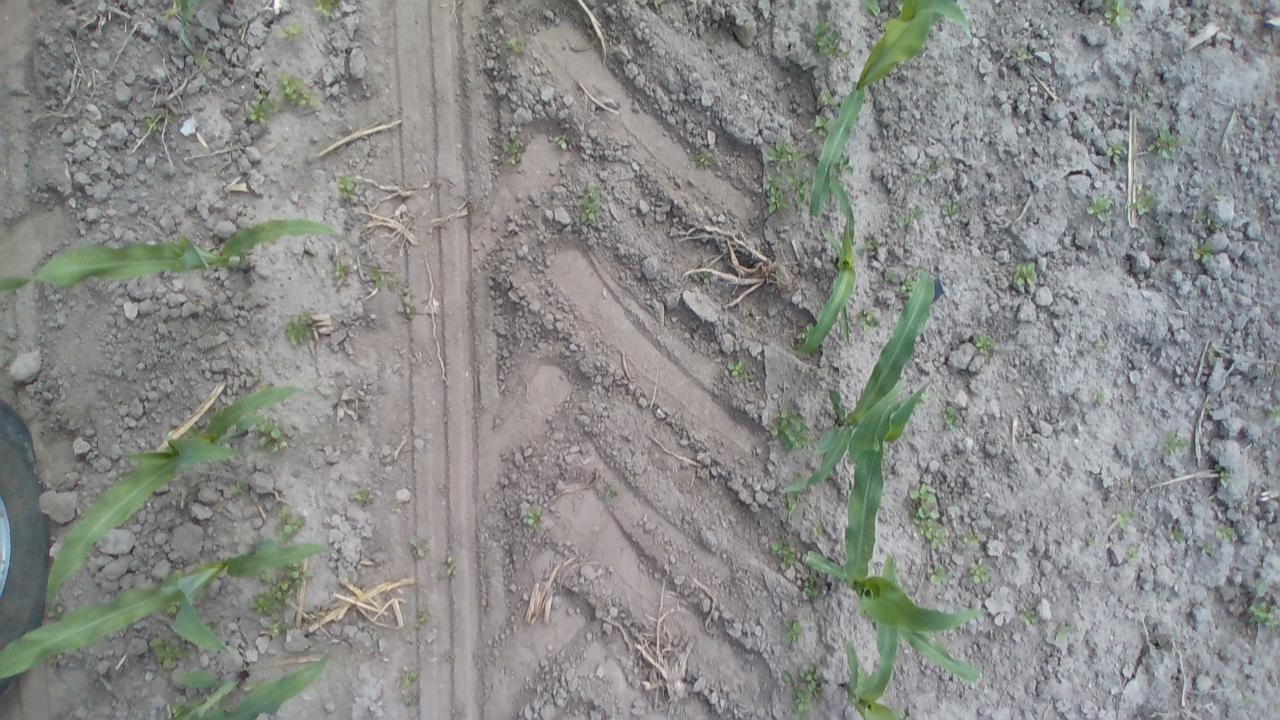Maize: (42, 381, 318, 618), (779, 267, 938, 604), (1, 535, 351, 683), (808, 3, 976, 222), (800, 548, 993, 686), (2, 219, 346, 296), (796, 158, 860, 356), (164, 651, 332, 720), (841, 553, 902, 720)
Weeds: (246, 559, 314, 637), (910, 482, 952, 582), (244, 68, 318, 124), (766, 537, 830, 601), (760, 136, 806, 216), (170, 1, 216, 69), (1167, 520, 1242, 560), (366, 268, 418, 320), (781, 666, 824, 718), (1244, 576, 1278, 634), (805, 18, 848, 61), (770, 408, 811, 453), (964, 534, 994, 586), (250, 417, 292, 450), (806, 88, 833, 137), (784, 472, 811, 519), (284, 313, 316, 348), (577, 183, 603, 226), (150, 634, 182, 668), (1148, 128, 1184, 157), (1085, 190, 1117, 222), (1008, 260, 1038, 293), (894, 271, 929, 298), (1103, 1, 1134, 30), (1160, 430, 1192, 457), (272, 507, 304, 534), (499, 138, 526, 169), (940, 403, 964, 435), (331, 176, 358, 204), (970, 330, 997, 358), (721, 358, 750, 384), (892, 206, 924, 229), (1192, 209, 1224, 232), (912, 158, 941, 182), (859, 0, 904, 15), (855, 238, 883, 261), (1110, 509, 1138, 531), (860, 310, 883, 336), (406, 536, 426, 565), (782, 618, 804, 644), (1188, 244, 1216, 264), (688, 150, 716, 169), (548, 130, 574, 150), (1132, 190, 1152, 214), (522, 506, 542, 530), (276, 23, 302, 41), (142, 110, 162, 133), (312, 1, 336, 20), (1263, 402, 1280, 428), (805, 522, 824, 545), (1053, 626, 1077, 644), (440, 555, 458, 579), (503, 38, 528, 55), (227, 480, 250, 498), (1123, 545, 1140, 568), (399, 669, 418, 689), (351, 490, 369, 511), (940, 204, 959, 222), (1236, 694, 1254, 712), (1219, 470, 1236, 487), (1106, 146, 1130, 158), (1020, 612, 1040, 626), (1016, 41, 1030, 61), (332, 262, 347, 280), (1092, 388, 1106, 406), (1092, 336, 1106, 350), (415, 606, 429, 619), (606, 487, 616, 505)
